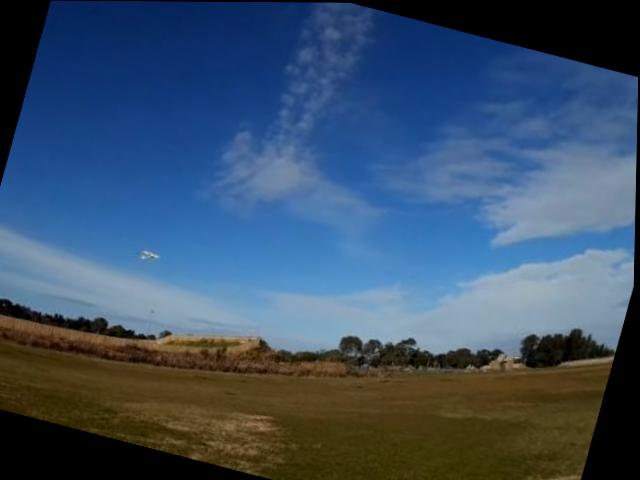uav: (130, 237, 168, 272)
